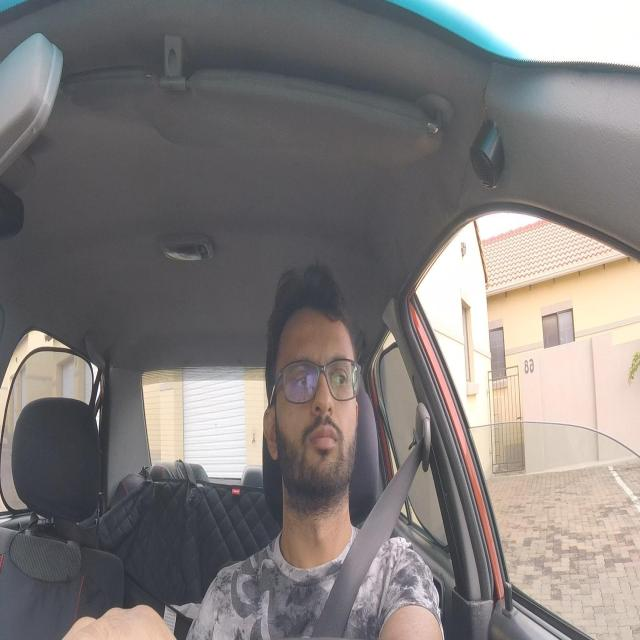open: (289, 355, 314, 405), (328, 352, 352, 402)
